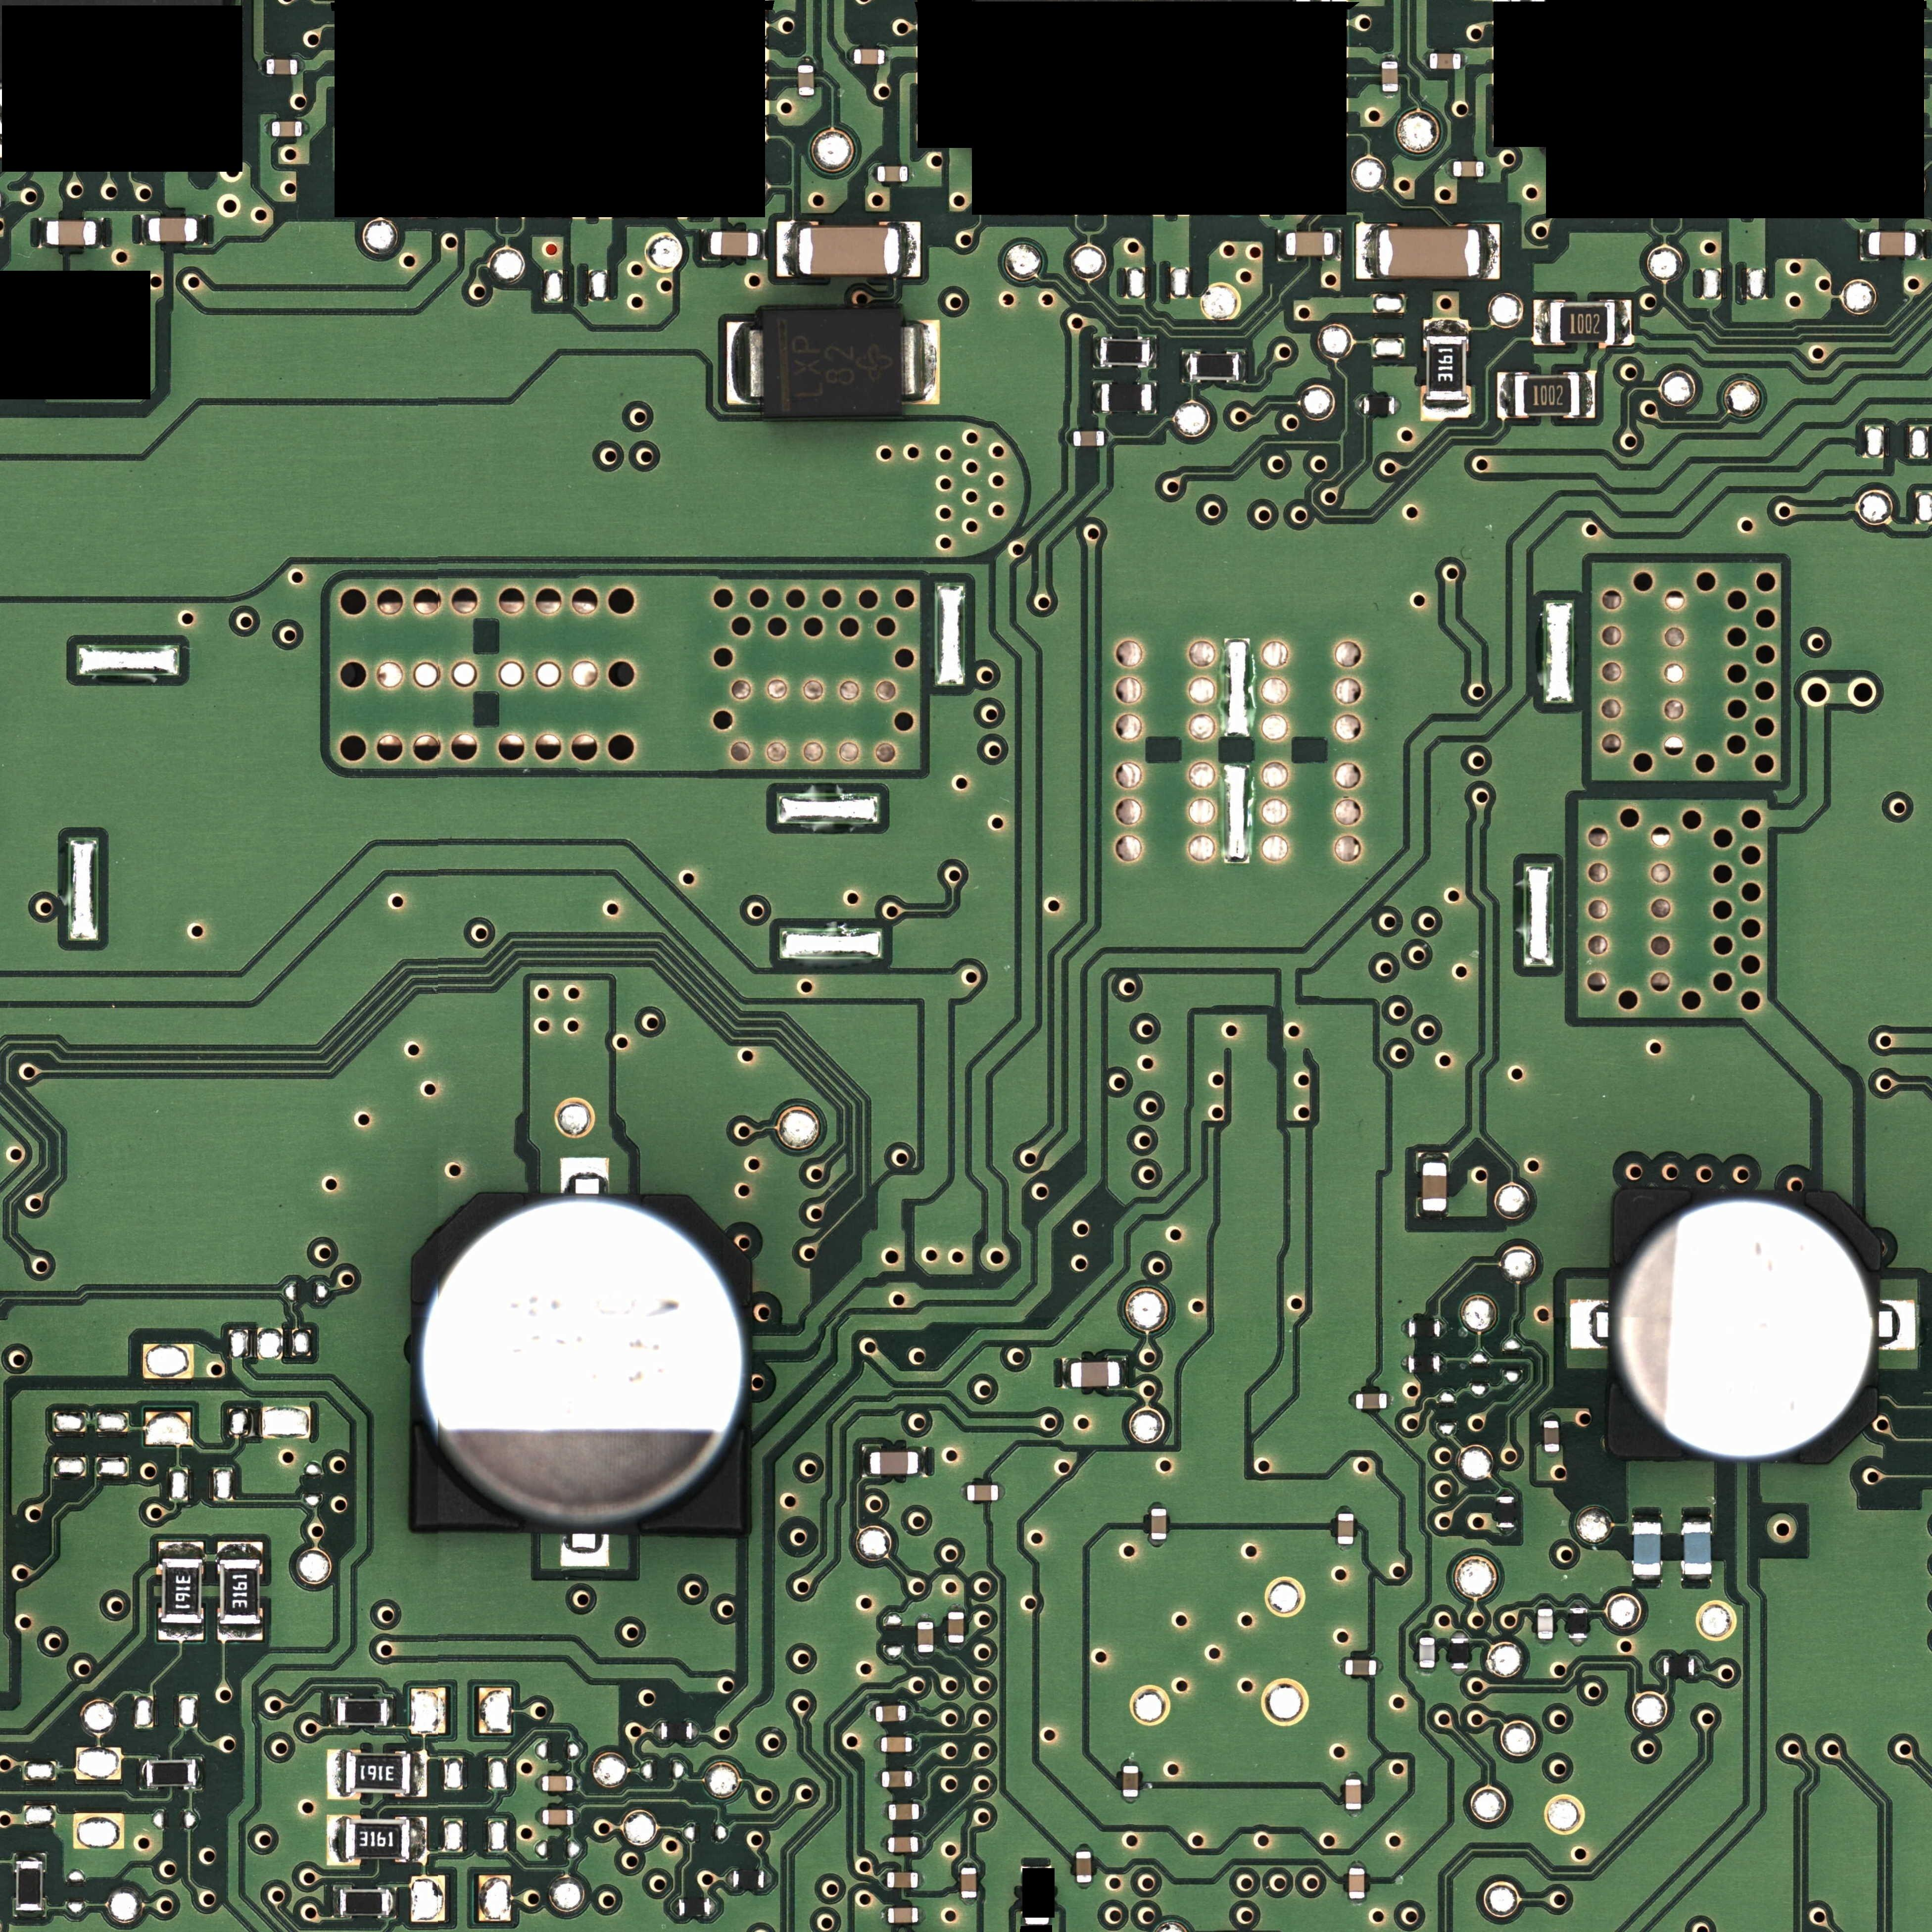Package: (411, 1193, 753, 1533), (1609, 1190, 1880, 1464), (764, 310, 901, 416), (1378, 228, 1481, 277), (798, 226, 899, 274), (1550, 302, 1615, 343), (1514, 375, 1580, 416), (345, 1753, 410, 1794), (220, 1560, 260, 1625), (161, 1559, 201, 1624), (345, 1820, 410, 1860), (1426, 337, 1466, 400), (1634, 1522, 1661, 1575), (1684, 1522, 1711, 1574), (1102, 384, 1151, 412), (338, 1699, 387, 1726), (1190, 354, 1239, 380), (146, 1761, 195, 1787), (1100, 339, 1149, 365), (17, 1861, 42, 1911), (340, 1890, 389, 1915), (47, 221, 96, 245), (1070, 1362, 1119, 1387), (148, 218, 197, 242), (1422, 1162, 1447, 1210), (710, 232, 758, 256), (869, 1451, 918, 1475), (1286, 232, 1333, 255), (1869, 232, 1916, 255), (1663, 1657, 1694, 1676), (1569, 1608, 1587, 1639), (1363, 397, 1395, 415), (733, 1871, 764, 1888), (679, 1898, 710, 1916), (1497, 1497, 1514, 1528), (1408, 1355, 1440, 1373), (1450, 1638, 1468, 1668), (661, 1723, 692, 1740), (1408, 1320, 1440, 1337), (1382, 61, 1398, 92), (266, 59, 297, 75), (887, 1872, 918, 1888), (1076, 1852, 1092, 1883), (876, 1705, 906, 1722), (798, 65, 814, 96), (948, 1612, 964, 1642), (882, 1771, 912, 1787), (542, 1776, 573, 1791), (889, 1804, 919, 1820), (1338, 1514, 1353, 1544), (967, 1485, 998, 1500), (881, 1737, 912, 1752), (1430, 53, 1460, 69), (1123, 1766, 1138, 1797), (918, 1622, 933, 1652), (1419, 1638, 1435, 1667), (1538, 1609, 1553, 1639), (854, 49, 884, 64), (961, 1868, 976, 1898), (888, 1908, 918, 1923), (888, 1837, 918, 1852), (1453, 161, 1484, 177), (1151, 1509, 1166, 1539), (1346, 1660, 1376, 1675), (1349, 1868, 1364, 1898), (272, 121, 302, 137), (877, 166, 907, 181), (1073, 431, 1104, 446), (1346, 1780, 1361, 1809), (1356, 1394, 1387, 1408), (1544, 1421, 1559, 1452), (543, 1810, 573, 1825)
Solder: (901, 320, 940, 405), (726, 321, 764, 405), (1570, 1300, 1608, 1349), (1880, 1300, 1916, 1350), (560, 1157, 609, 1193), (561, 1534, 609, 1566), (1356, 223, 1378, 280), (776, 222, 798, 277), (900, 222, 920, 277), (1481, 224, 1500, 280), (327, 1749, 345, 1800), (327, 1815, 345, 1865), (1423, 400, 1470, 418), (217, 1542, 263, 1560), (410, 1817, 427, 1863), (158, 1542, 203, 1559), (1424, 319, 1469, 337), (1497, 372, 1514, 418), (158, 1624, 203, 1641), (1616, 300, 1632, 345), (411, 1752, 427, 1797), (1534, 300, 1549, 345), (218, 1625, 263, 1640), (1580, 372, 1595, 418), (1417, 1152, 1449, 1163), (701, 229, 711, 260), (1277, 230, 1286, 262), (1333, 228, 1342, 261), (918, 1446, 926, 1478), (13, 1853, 47, 1861), (1062, 1357, 1070, 1389), (1916, 230, 1925, 259), (862, 1447, 870, 1478), (1181, 352, 1190, 383), (1093, 383, 1101, 414), (758, 229, 766, 259), (1860, 230, 1869, 260), (329, 1696, 337, 1727), (1681, 1574, 1712, 1582), (1632, 1575, 1663, 1582), (195, 1757, 202, 1790), (1149, 338, 1157, 368), (1119, 1358, 1127, 1389), (1093, 336, 1100, 369), (12, 1911, 47, 1917), (1681, 1515, 1713, 1522), (139, 1759, 146, 1790), (1632, 1515, 1663, 1522), (389, 1887, 396, 1918), (386, 1696, 393, 1727), (333, 1887, 339, 1918), (1416, 1211, 1449, 1217), (1240, 351, 1246, 383), (669, 1897, 679, 1917), (764, 1869, 773, 1889), (198, 214, 204, 245), (142, 214, 147, 244), (40, 217, 46, 247), (1151, 383, 1157, 414), (1569, 1598, 1587, 1607), (1569, 1638, 1588, 1647), (97, 217, 102, 248), (1694, 1658, 1703, 1676), (1537, 1599, 1553, 1608), (302, 119, 310, 138), (1338, 1657, 1346, 1676), (1335, 1505, 1353, 1513), (1334, 1545, 1353, 1552), (1348, 1391, 1356, 1409), (1376, 1658, 1384, 1676), (1149, 1540, 1166, 1547), (1387, 1391, 1394, 1409), (259, 56, 266, 75), (960, 1483, 967, 1501), (725, 1870, 733, 1888), (264, 120, 271, 138), (998, 1483, 1006, 1501), (1356, 396, 1363, 415), (1497, 1528, 1516, 1535), (798, 57, 814, 65), (1345, 1810, 1361, 1818), (1345, 1771, 1361, 1779), (1537, 1639, 1553, 1646), (297, 58, 305, 75), (1401, 1355, 1408, 1372), (1401, 1319, 1408, 1338), (846, 48, 854, 64), (1382, 54, 1398, 62), (1419, 1630, 1435, 1638), (573, 1808, 580, 1825), (948, 1604, 965, 1612), (535, 1808, 542, 1826), (1350, 1860, 1365, 1868), (908, 166, 915, 182), (535, 1775, 542, 1791), (1422, 52, 1430, 69), (1446, 161, 1453, 177), (1440, 1355, 1447, 1373), (1440, 1320, 1447, 1338), (1349, 1899, 1366, 1906), (654, 1722, 661, 1740), (1148, 1502, 1166, 1508), (870, 166, 878, 182), (918, 1614, 933, 1622), (1451, 1631, 1467, 1639), (1484, 161, 1491, 177), (1544, 1413, 1559, 1420), (573, 1775, 580, 1792), (1544, 1451, 1560, 1458), (710, 1898, 717, 1916), (1656, 1658, 1663, 1676), (1497, 1490, 1515, 1496), (961, 1860, 976, 1868), (798, 95, 815, 102), (1066, 430, 1073, 446), (1076, 1883, 1092, 1889), (1419, 1668, 1435, 1675), (906, 1704, 913, 1721), (948, 1643, 964, 1650), (1461, 53, 1468, 69), (1395, 397, 1401, 414), (1451, 1669, 1468, 1675), (692, 1722, 698, 1740), (961, 1898, 977, 1905), (884, 48, 891, 64), (1382, 92, 1398, 98), (1122, 1797, 1138, 1803), (912, 1770, 918, 1787), (883, 1803, 889, 1820), (1123, 1759, 1138, 1766), (1076, 1845, 1091, 1851), (912, 1737, 918, 1753), (875, 1736, 881, 1752), (883, 1836, 889, 1852), (918, 1803, 924, 1819), (918, 1907, 924, 1923), (876, 1771, 882, 1787), (870, 1705, 875, 1722), (918, 1652, 933, 1658), (1104, 431, 1110, 445), (918, 1836, 924, 1852), (881, 1872, 887, 1887), (883, 1907, 888, 1924), (918, 1872, 923, 1888)
